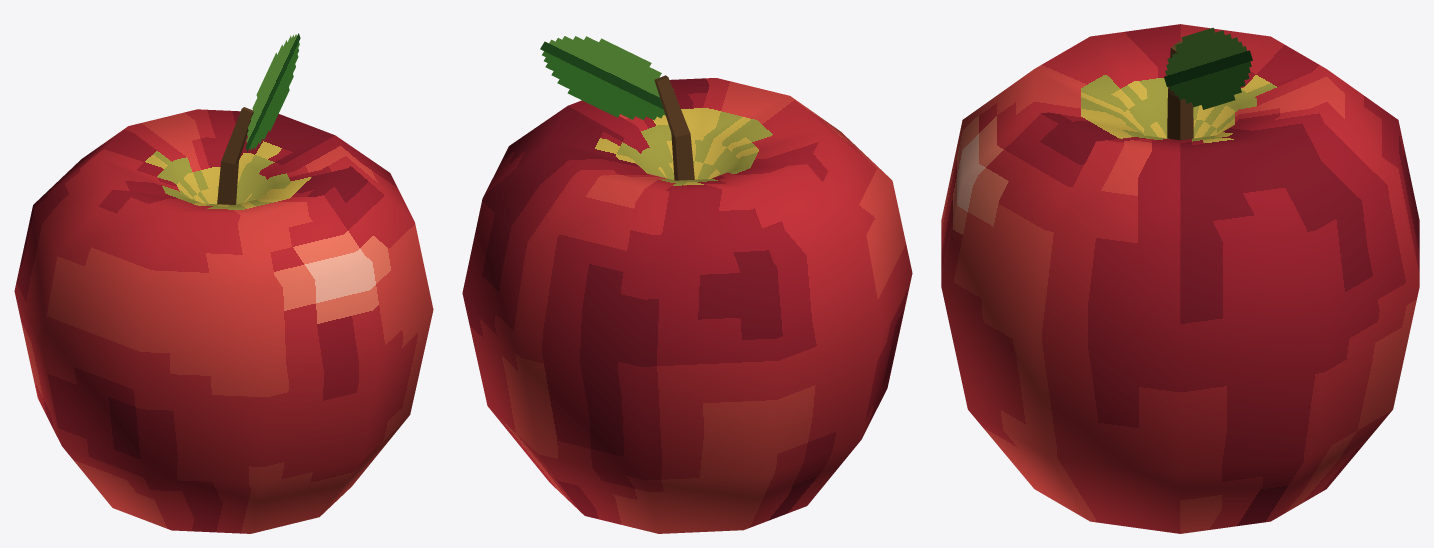
The model's file is produce-apple.glb.
3 renders of one model, left to right at view 1: azimuth 30°, elevation 25°; view 2: azimuth 150°, elevation 25°; view 3: azimuth 270°, elevation 25°, orthographic. The views are drawn at different scales.
Parts seen in each view (by area): view 1: produce.apple; view 2: produce.apple; view 3: produce.apple.
Part boxes in pixels (x1,y1,x2,y2): produce.apple: [14, 33, 433, 533]; produce.apple: [462, 36, 912, 533]; produce.apple: [941, 24, 1419, 533].
Bounding box in the file's own units: 1.53 × 1.81 × 1.45.
Materials: 3 (2 with a texture image).
